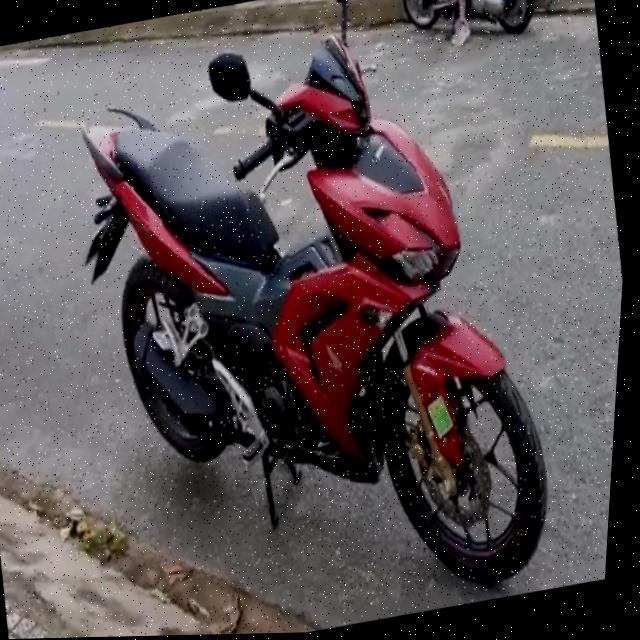motorcycle: (19, 0, 598, 639), (385, 0, 570, 58)
